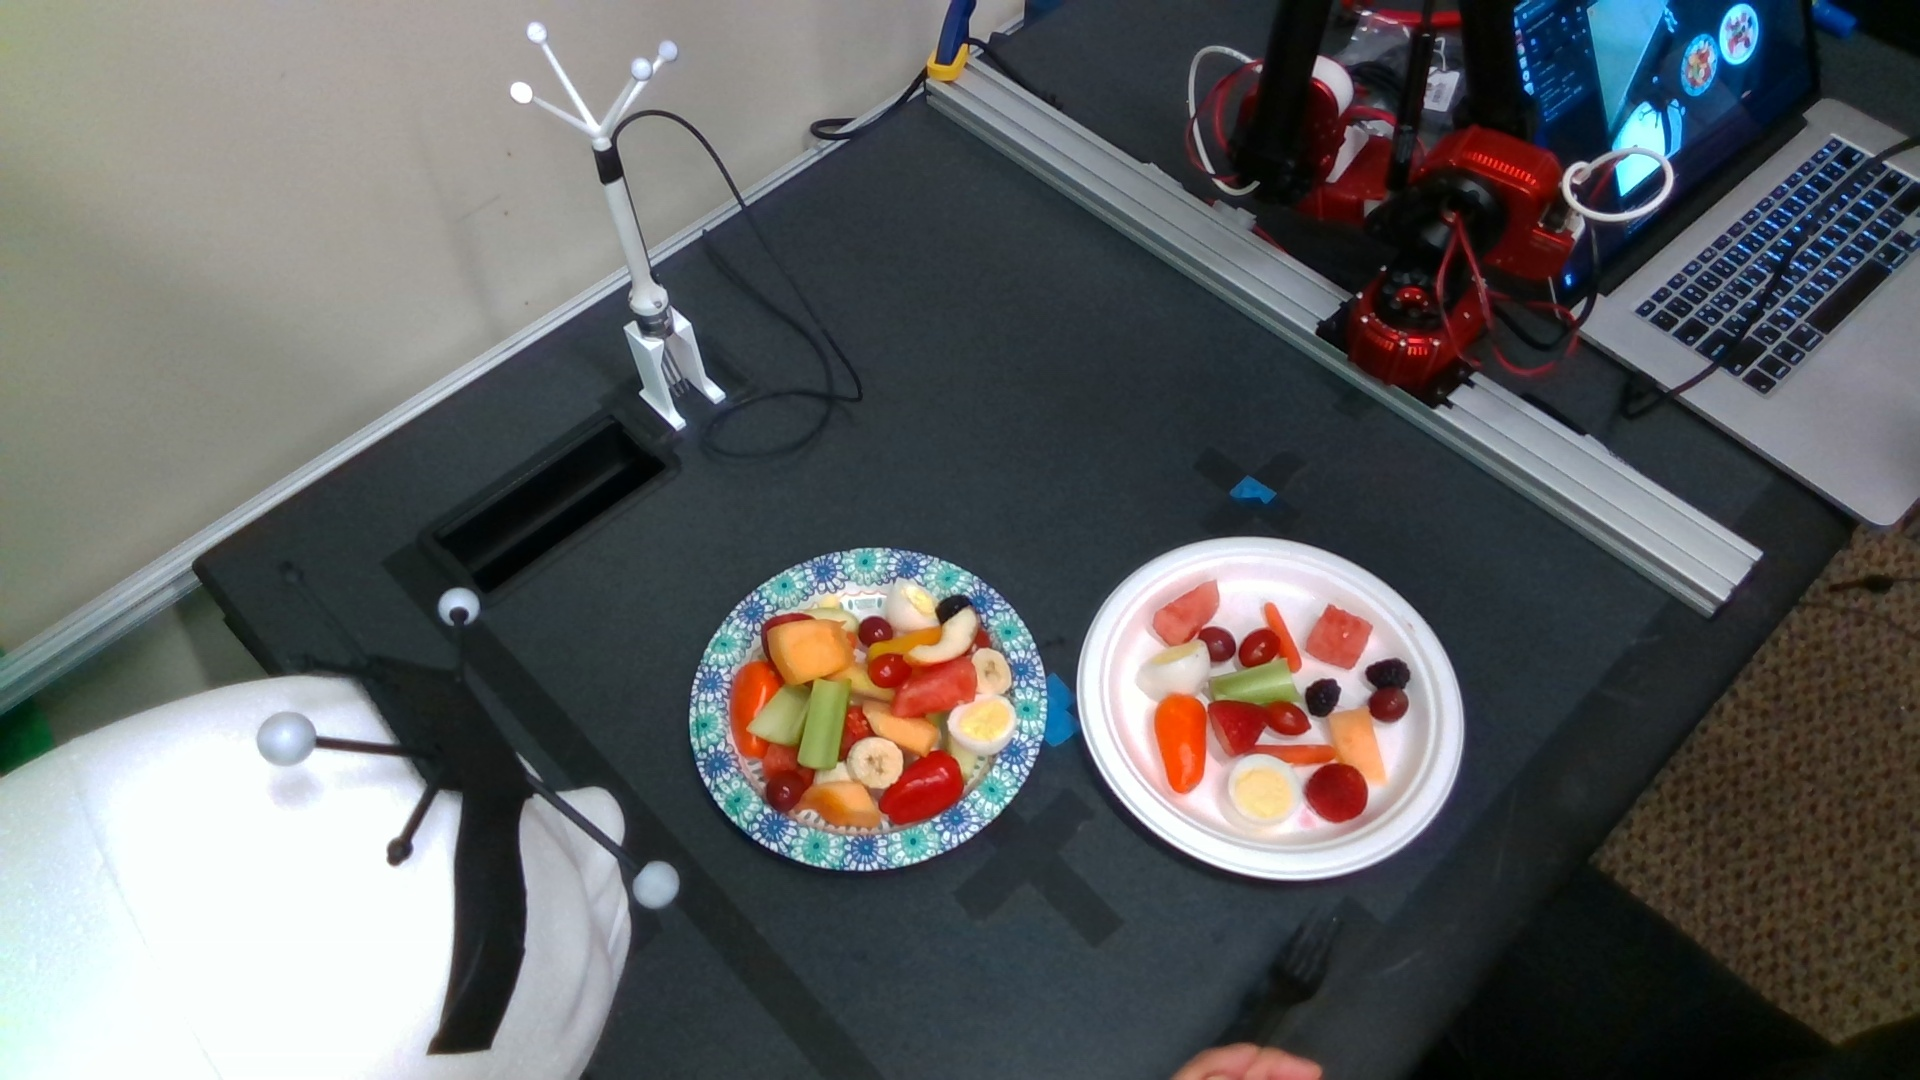apple: (906, 608, 978, 665)
banana: (844, 741, 903, 789), (968, 647, 1010, 694)
bell_pepper: (880, 748, 963, 823), (1153, 692, 1209, 793), (728, 662, 781, 757)
blackberry: (1303, 676, 1342, 717), (1364, 657, 1411, 690), (935, 593, 972, 624)
cantalope: (766, 618, 852, 684), (1328, 707, 1387, 786), (796, 778, 885, 829), (864, 702, 938, 757)
carrot: (1265, 603, 1299, 673), (1241, 745, 1338, 764)
celery: (798, 676, 848, 769), (749, 678, 814, 745), (1208, 657, 1298, 703)
cherry_tomato: (1263, 700, 1313, 736), (1238, 628, 1279, 669), (868, 655, 913, 686)
egg: (1133, 640, 1213, 703), (1228, 756, 1298, 825), (949, 694, 1018, 756), (887, 578, 942, 632)
grape: (765, 773, 804, 815), (1367, 690, 1408, 723), (1197, 626, 1236, 659), (858, 617, 891, 644)
melon: (1145, 582, 1226, 645), (891, 659, 975, 715), (1309, 605, 1367, 666)
plate: (1076, 533, 1469, 884), (680, 549, 1047, 872)
strawberry: (1305, 765, 1369, 824), (1209, 699, 1269, 760)
